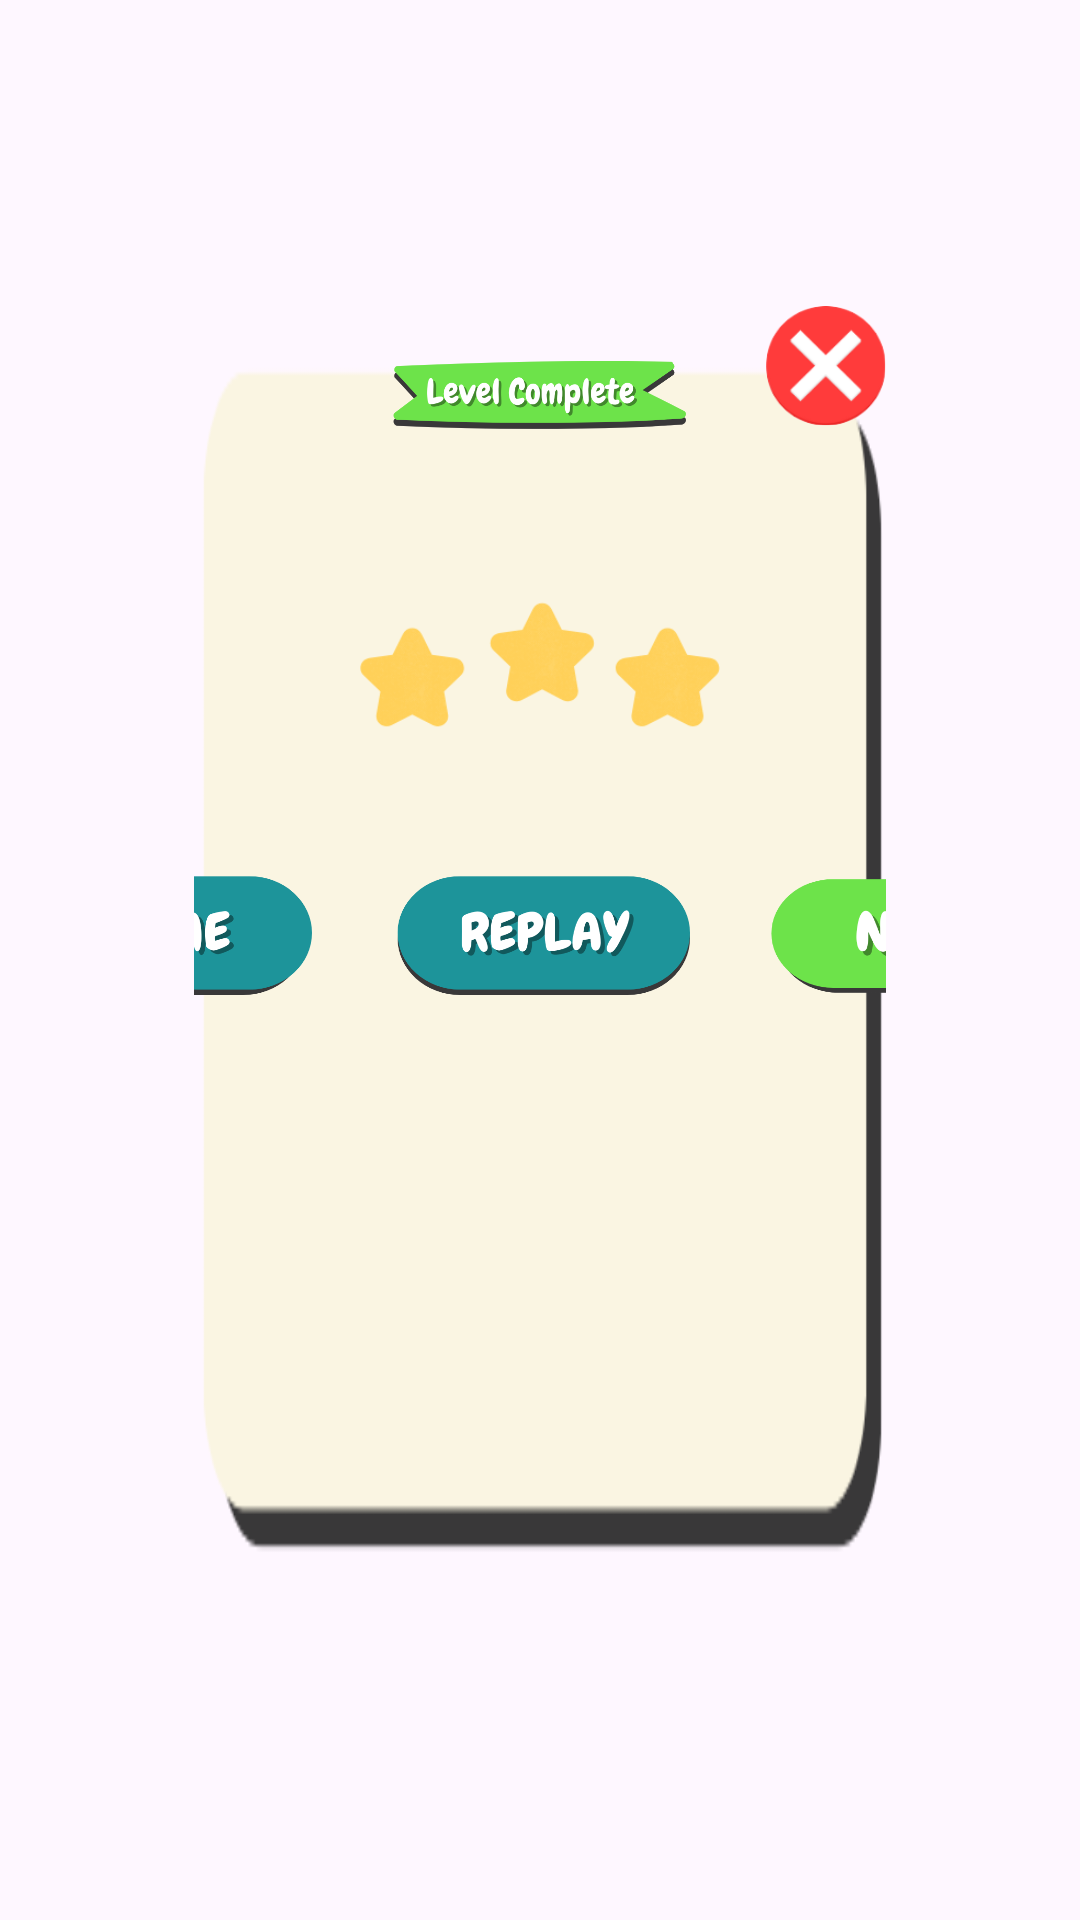

Where to tap for icons on this 1080w x 1920h app screen, as (x,y):
star: (540,665)
